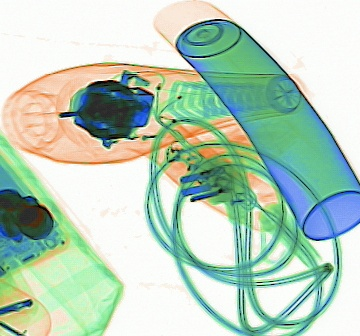pressure: (150, 1, 359, 240)
